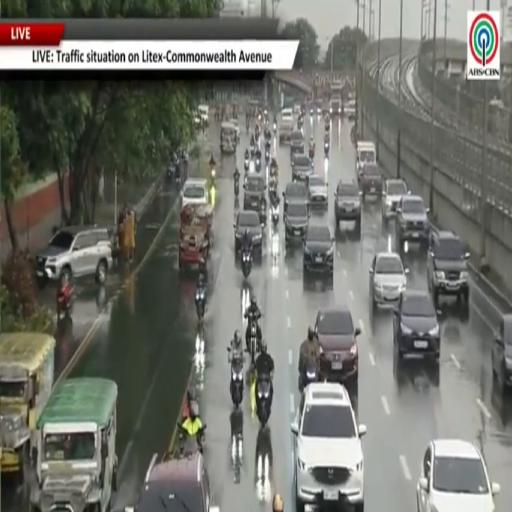car: (291, 382, 366, 511), (417, 439, 500, 511), (125, 453, 220, 511), (35, 227, 113, 285), (393, 290, 440, 363), (315, 307, 360, 383), (427, 231, 470, 307), (370, 252, 408, 307), (396, 196, 430, 249), (303, 224, 334, 277), (492, 314, 511, 388), (334, 181, 360, 228), (234, 211, 262, 254), (382, 180, 408, 219), (285, 202, 309, 244), (243, 173, 266, 212), (283, 183, 308, 218), (356, 141, 376, 181), (360, 164, 382, 200), (181, 179, 209, 207), (307, 174, 327, 207), (291, 153, 313, 182), (279, 109, 293, 143), (290, 131, 304, 157), (343, 98, 356, 121), (197, 104, 209, 126), (230, 119, 240, 141), (330, 98, 342, 116), (309, 102, 322, 116), (294, 103, 301, 116)
jeepney: (30, 378, 118, 511), (0, 332, 55, 477), (179, 205, 213, 269), (221, 122, 236, 153)
motorcycle: (230, 409, 244, 483), (228, 347, 244, 408), (177, 423, 206, 456), (256, 376, 271, 427), (299, 359, 318, 392), (248, 317, 258, 367), (57, 290, 74, 318), (195, 288, 206, 321), (242, 248, 252, 278), (268, 175, 277, 200), (271, 203, 279, 226), (259, 204, 266, 228), (270, 165, 278, 180), (234, 174, 239, 197), (210, 169, 215, 187), (255, 157, 261, 171), (324, 142, 329, 157), (244, 159, 249, 173), (255, 126, 260, 140), (309, 148, 314, 161), (250, 144, 255, 157), (298, 118, 303, 130), (265, 149, 269, 162), (246, 118, 249, 134), (273, 122, 276, 135), (310, 108, 314, 117)
